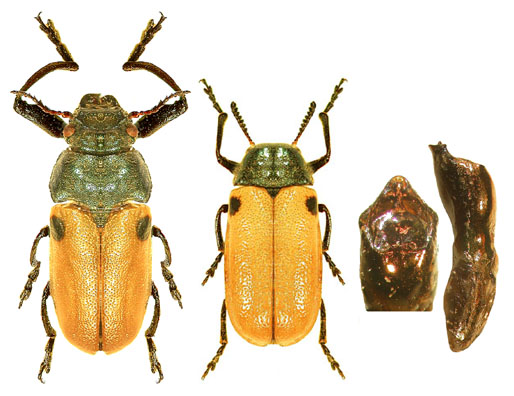Labidostomis_propinqua: (13, 9, 189, 386), (190, 63, 355, 384)
